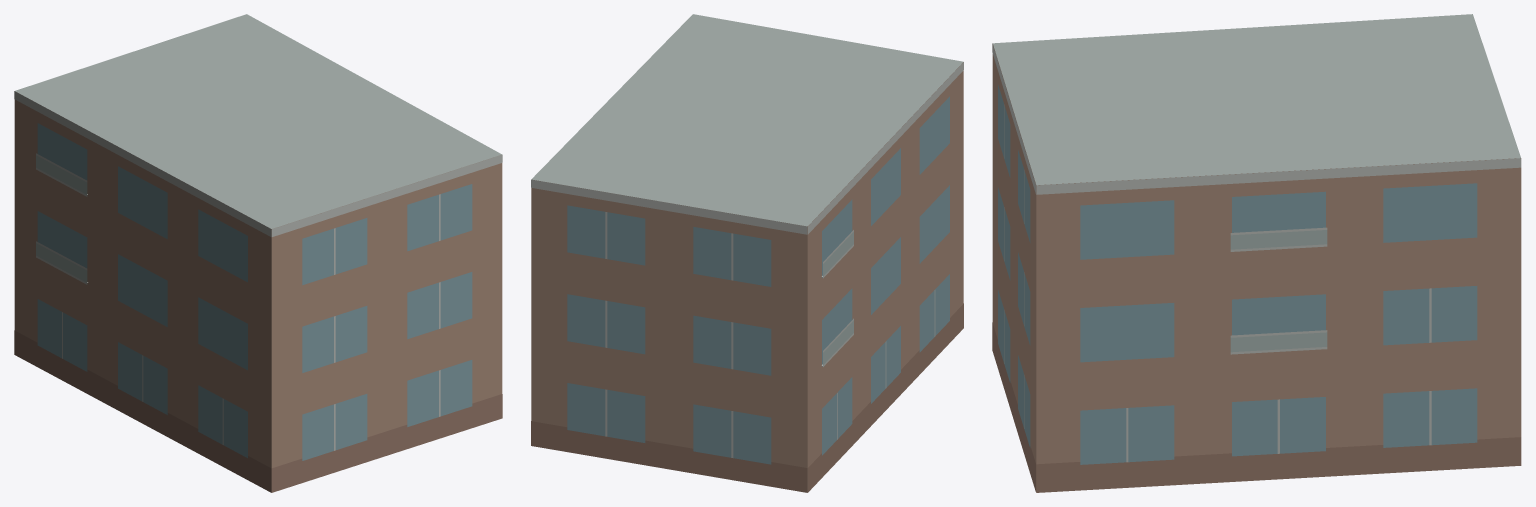
Rendered from survey-upis-32622355.glb.
The picture shows the model from 3 angles, left to right: view 1: azimuth 30°, elevation 25°; view 2: azimuth 150°, elevation 25°; view 3: azimuth 270°, elevation 25°; orthographic projection. The views are drawn at different scales.
Parts seen in each view (by area): view 1: survey-upis-32622355.tmp; view 2: survey-upis-32622355.tmp; view 3: survey-upis-32622355.tmp.
Boxes of the visible parts, bbox=[...] form: survey-upis-32622355.tmp: bbox=[14, 14, 502, 492]; survey-upis-32622355.tmp: bbox=[531, 14, 963, 492]; survey-upis-32622355.tmp: bbox=[992, 14, 1521, 492].
Bounding box in the file's own units: 9.32 × 7.8 × 12.16.
